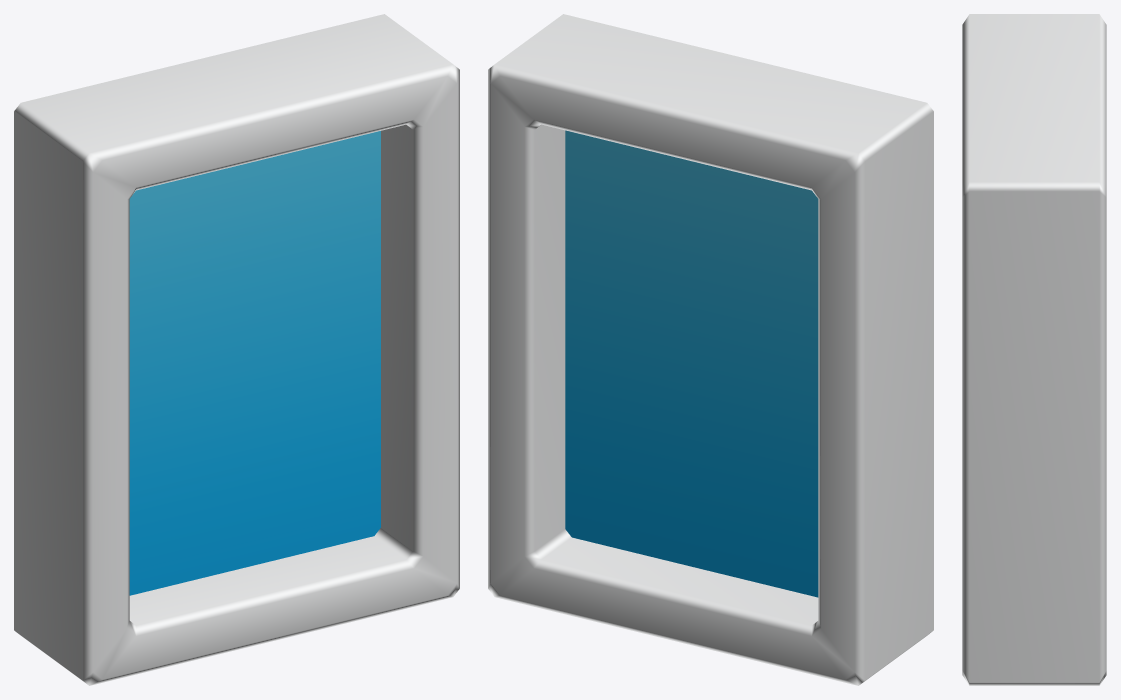
File: Window_White_08.glb
3 renders of one model, left to right at view 1: azimuth 30°, elevation 25°; view 2: azimuth 150°, elevation 25°; view 3: azimuth 270°, elevation 25°, orthographic. The views are drawn at different scales.
Visible parts, largest first — view 1: Window_White_08; view 2: Window_White_08; view 3: Window_White_08.
Part boxes in pixels (x1,y1,x2,y2): Window_White_08: (14,14,459,685); Window_White_08: (488,14,933,685); Window_White_08: (962,14,1106,685).
Size of the model in its own units: 1.14 by 1.54 by 0.4.
Materials: 2 (2 with a texture image).
